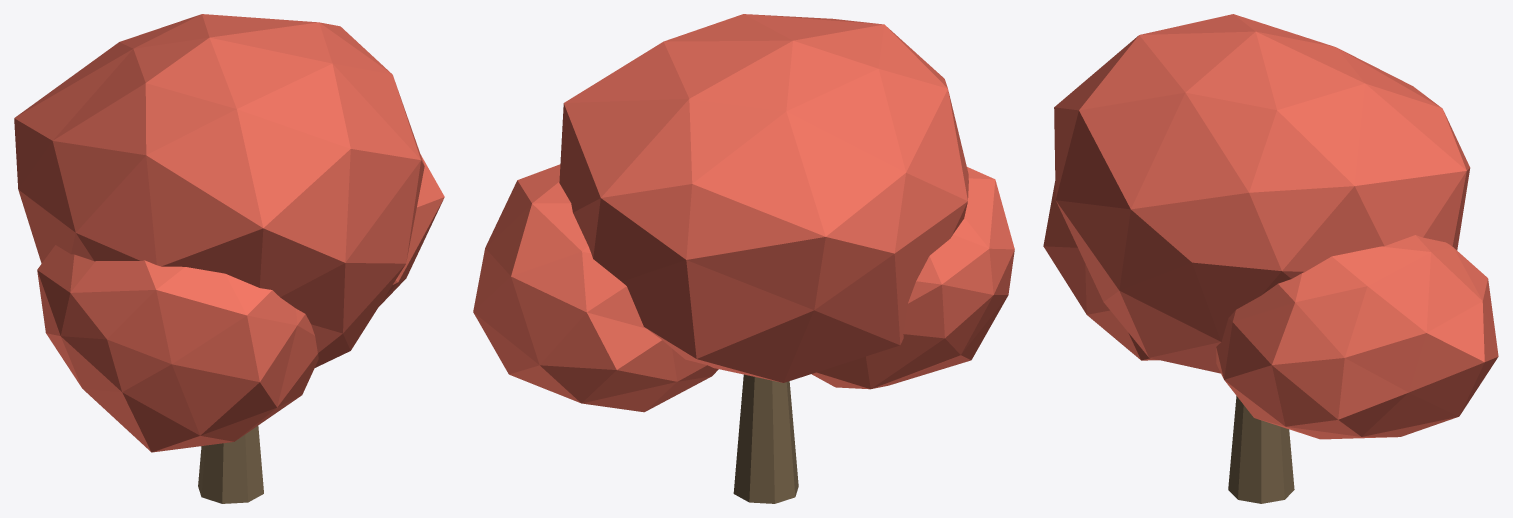
3 views of the same model, side by side, from view 1: azimuth 30°, elevation 25°; view 2: azimuth 150°, elevation 25°; view 3: azimuth 270°, elevation 25° (orthographic). The views are drawn at different scales.
Parts seen in each view (by area): view 1: node (×4); view 2: node (×4); view 3: node (×4).
Boxes of the visible parts, left/top/right/bottom form: node (×4): left=14, top=14, right=444, bottom=503; node (×4): left=473, top=14, right=1014, bottom=503; node (×4): left=1043, top=14, right=1498, bottom=503.
Bounding box in the file's own units: 1.63 × 1.66 × 1.54.
